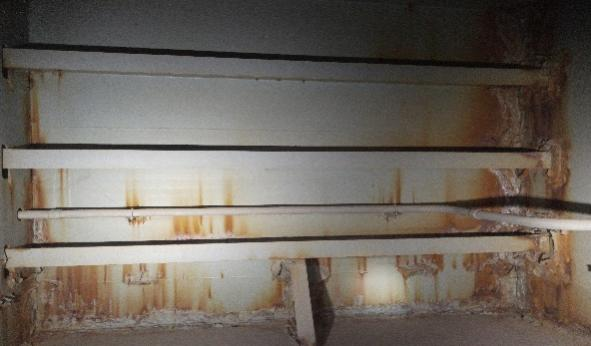corrosion: (3, 263, 111, 340), (523, 230, 582, 325), (542, 63, 579, 196), (458, 252, 518, 319), (482, 87, 543, 146), (13, 76, 47, 142), (479, 164, 543, 194), (156, 272, 194, 319), (400, 274, 445, 313), (119, 266, 151, 320), (392, 255, 444, 288), (17, 171, 56, 209), (270, 266, 294, 316), (196, 288, 229, 323), (387, 168, 415, 204), (461, 215, 513, 234), (120, 187, 147, 222), (350, 259, 374, 297), (19, 219, 58, 242), (438, 172, 464, 203), (169, 219, 213, 235), (317, 252, 338, 285), (226, 213, 242, 240), (224, 183, 237, 215), (441, 215, 455, 231)
